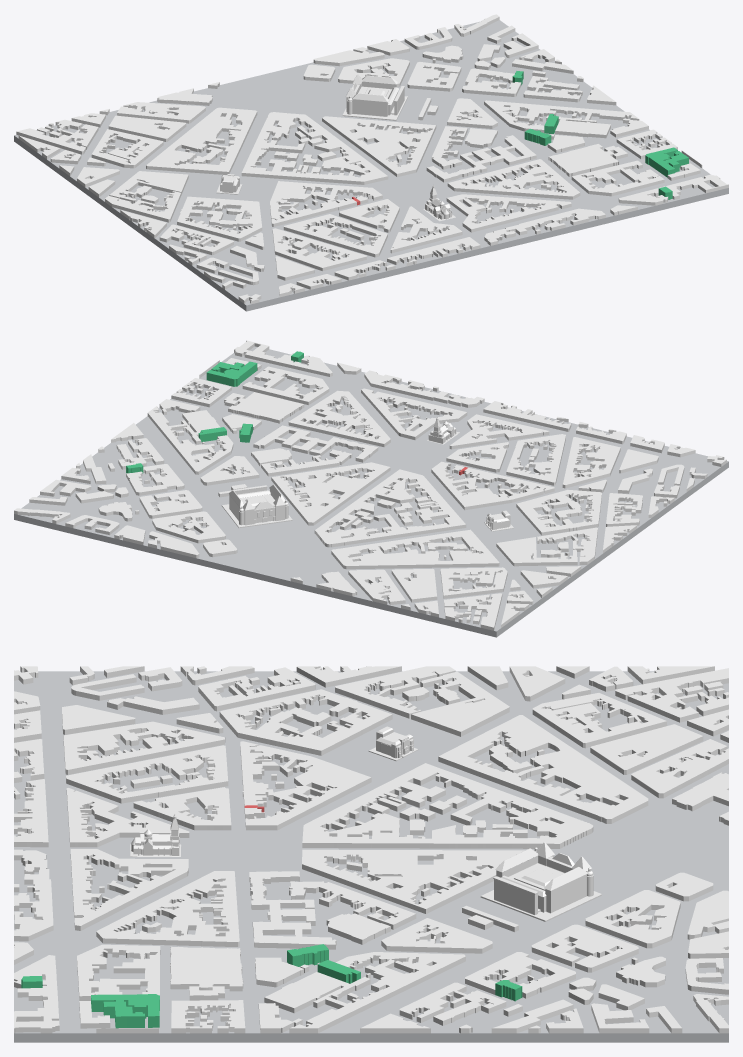
Rendered from lille_touch_consolidated_buildings.glb.
The picture shows the model from 3 angles, top to bottom: view 1: azimuth 30°, elevation 25°; view 2: azimuth 150°, elevation 25°; view 3: azimuth 270°, elevation 25°; orthographic projection. The views are drawn at different scales.
Visible parts, largest first — view 1: standard_building_or_marker, flat_lille_test_terrain, landmark_micro_model_palais_beaux_arts_lille, enhanced_landmark_massing, landmark_micro_model_saint_michel_lille; view 2: standard_building_or_marker, flat_lille_test_terrain, landmark_micro_model_palais_beaux_arts_lille, enhanced_landmark_massing, landmark_micro_model_saint_michel_lille; view 3: standard_building_or_marker, flat_lille_test_terrain, landmark_micro_model_palais_beaux_arts_lille, enhanced_landmark_massing, landmark_micro_model_saint_michel_lille, landmark_micro_model_theatre_sebastopol_lille.
Boxes of the visible parts, x1,y1,x2,y2 form: standard_building_or_marker: (16, 14, 728, 304); flat_lille_test_terrain: (14, 20, 728, 311); landmark_micro_model_palais_beaux_arts_lille: (342, 74, 407, 120); enhanced_landmark_massing: (512, 71, 688, 199); landmark_micro_model_saint_michel_lille: (423, 185, 455, 221); standard_building_or_marker: (14, 340, 726, 630); flat_lille_test_terrain: (14, 346, 728, 637); landmark_micro_model_palais_beaux_arts_lille: (221, 484, 292, 527); enhanced_landmark_massing: (126, 351, 303, 473); landmark_micro_model_saint_michel_lille: (427, 417, 459, 444); standard_building_or_marker: (14, 666, 728, 1033); flat_lille_test_terrain: (14, 671, 728, 1042); landmark_micro_model_palais_beaux_arts_lille: (480, 842, 601, 921); enhanced_landmark_massing: (21, 944, 522, 1028); landmark_micro_model_saint_michel_lille: (130, 814, 181, 856); landmark_micro_model_theatre_sebastopol_lille: (368, 726, 418, 761).
Size of the model in its own units: 4 by 0.2402 by 3.34.
